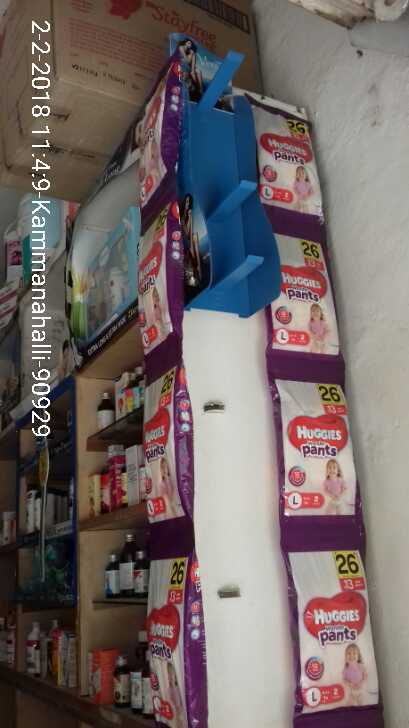reject: (198, 404, 274, 468)
